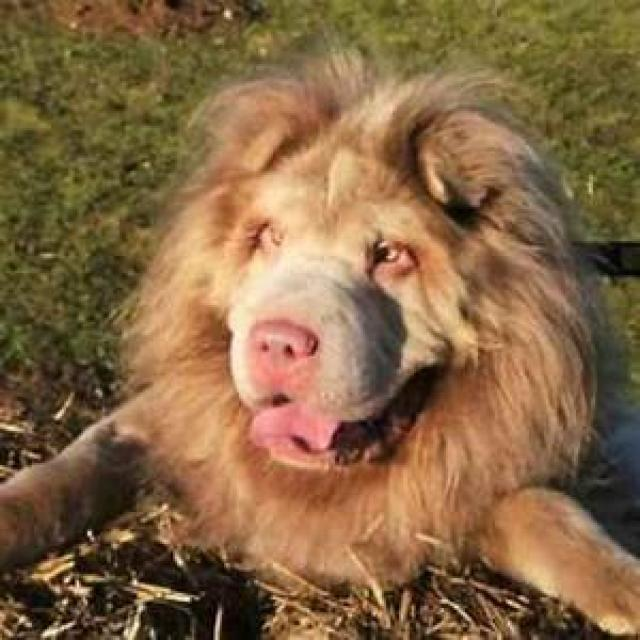dog: (0, 76, 640, 629)
